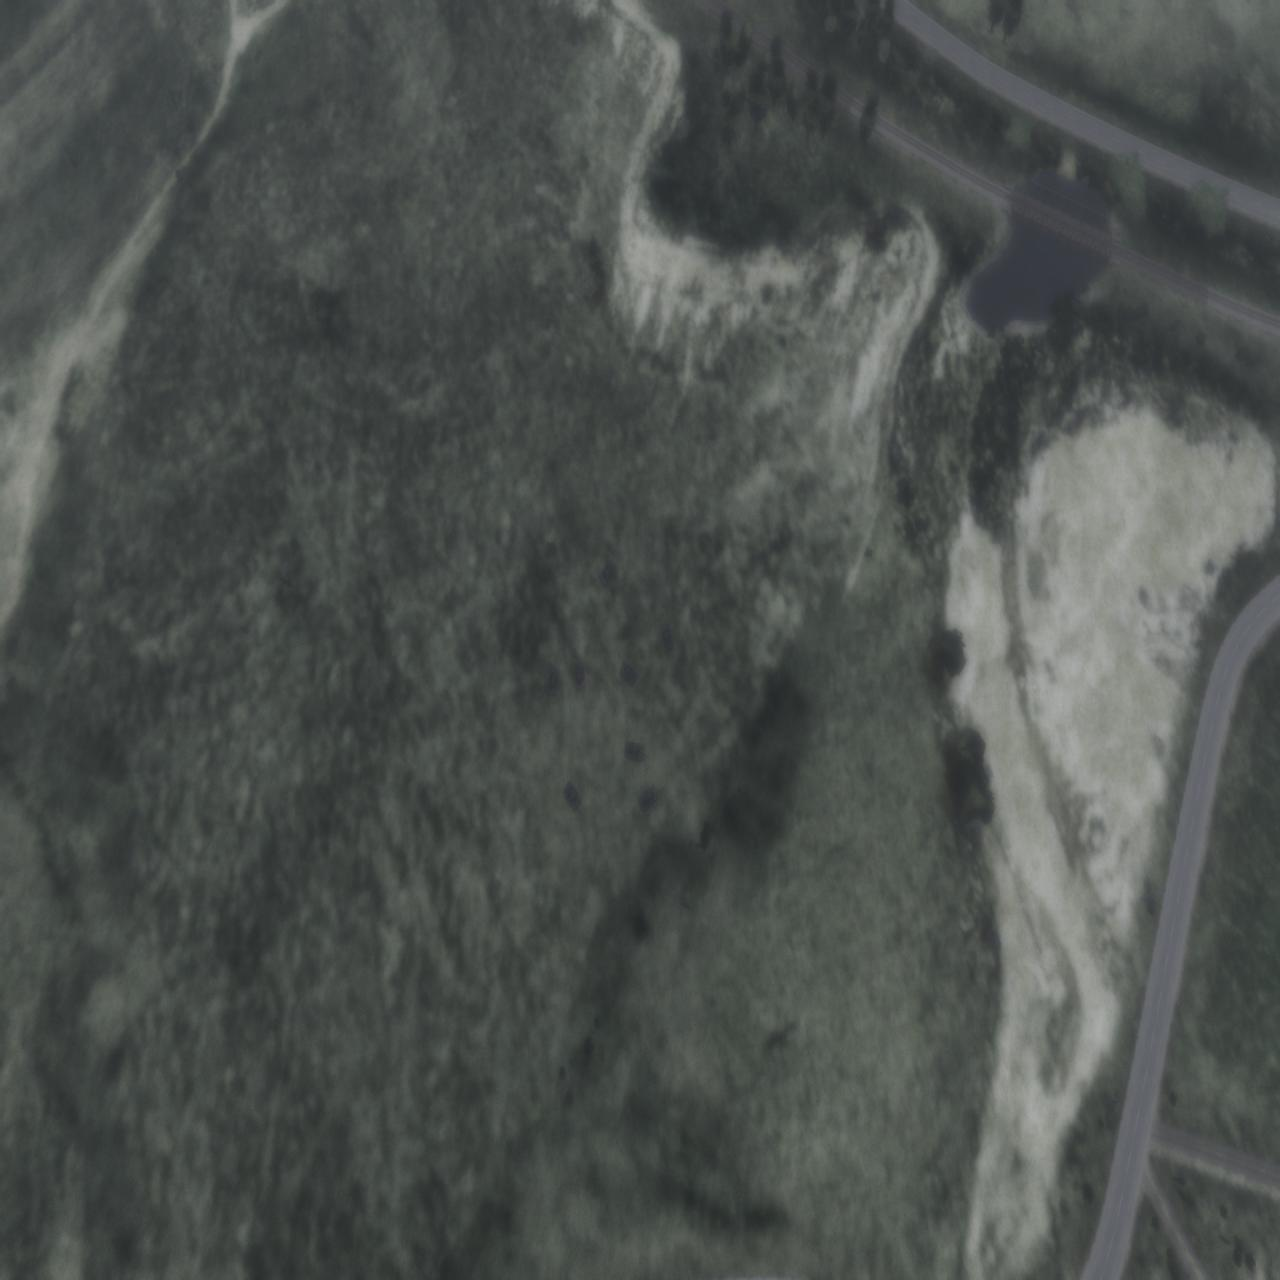MIL_Veh: (615, 648, 639, 690), (561, 777, 584, 818), (639, 782, 667, 810), (625, 741, 651, 767), (659, 615, 676, 652), (595, 559, 618, 587), (572, 658, 587, 695), (545, 665, 559, 697)
